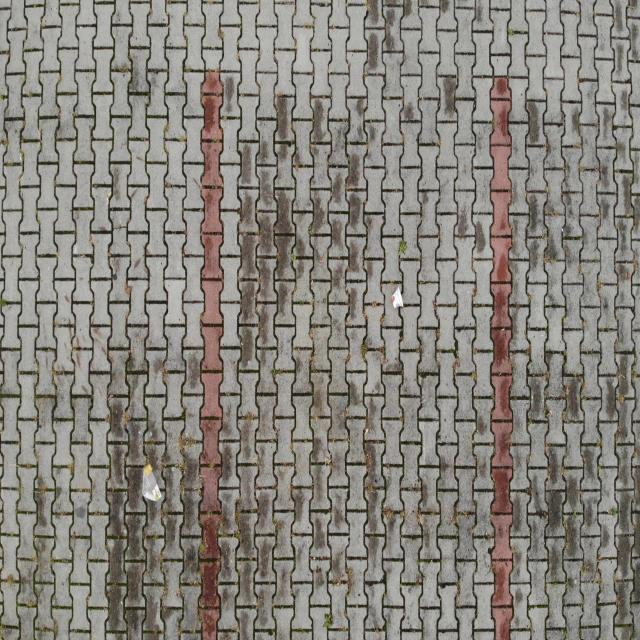rubbish: (141, 463, 162, 502), (391, 285, 403, 309)
